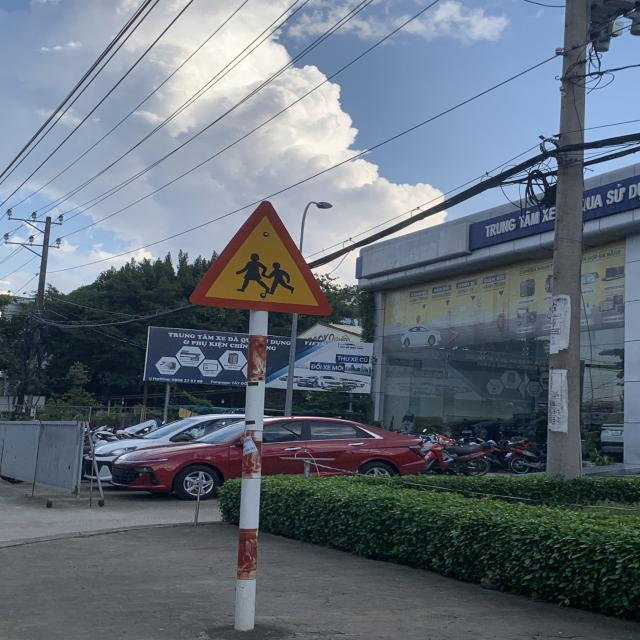Vong_Xuyen: (187, 197, 331, 315)
